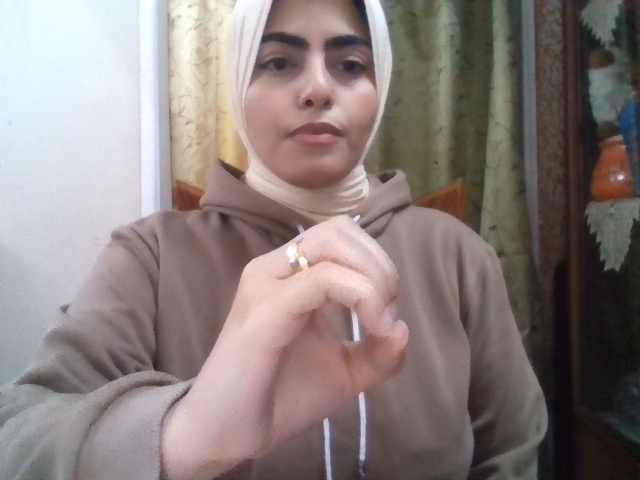O: (198, 213, 409, 468)
